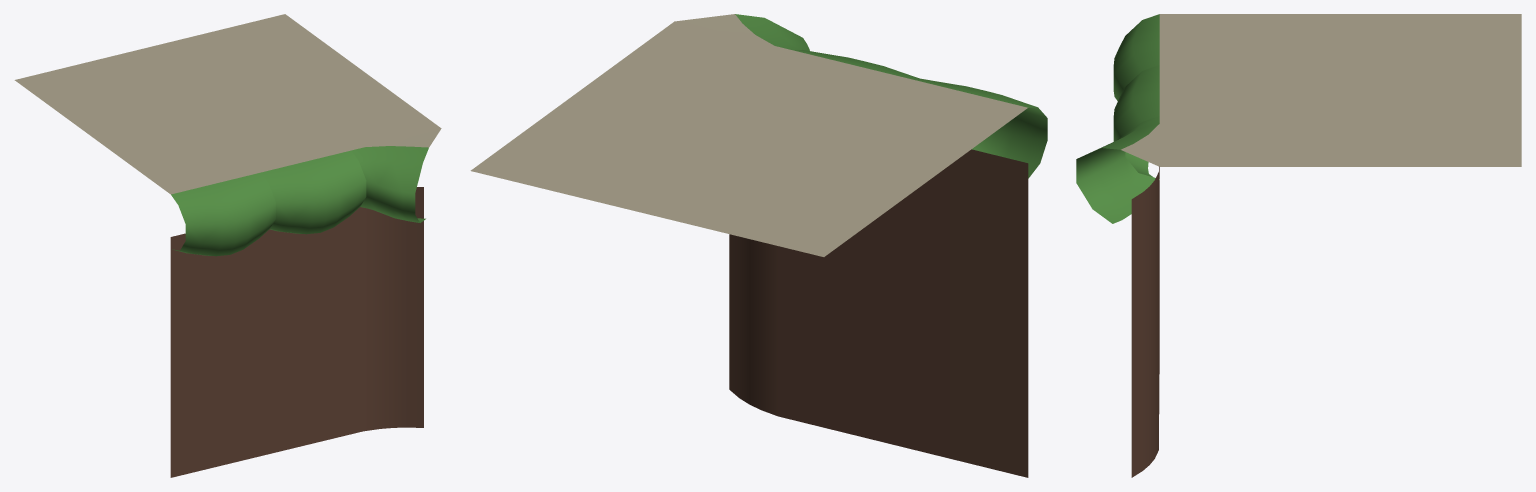
Rendered from ForestTile_InnerCornerA.fbx.
3 views of the same model, side by side, from view 1: azimuth 30°, elevation 25°; view 2: azimuth 150°, elevation 25°; view 3: azimuth 270°, elevation 25° (orthographic). The views are drawn at different scales.
Parts seen in each view (by area): view 1: ForestTile_InnerCornerA; view 2: ForestTile_InnerCornerA; view 3: ForestTile_InnerCornerA.
Boxes of the visible parts, x1,y1,x2,y2 form: ForestTile_InnerCornerA: (14,14,441,477); ForestTile_InnerCornerA: (470,14,1047,477); ForestTile_InnerCornerA: (1076,14,1521,477).
Size of the model in its own units: 90 by 90.15 by 111.
